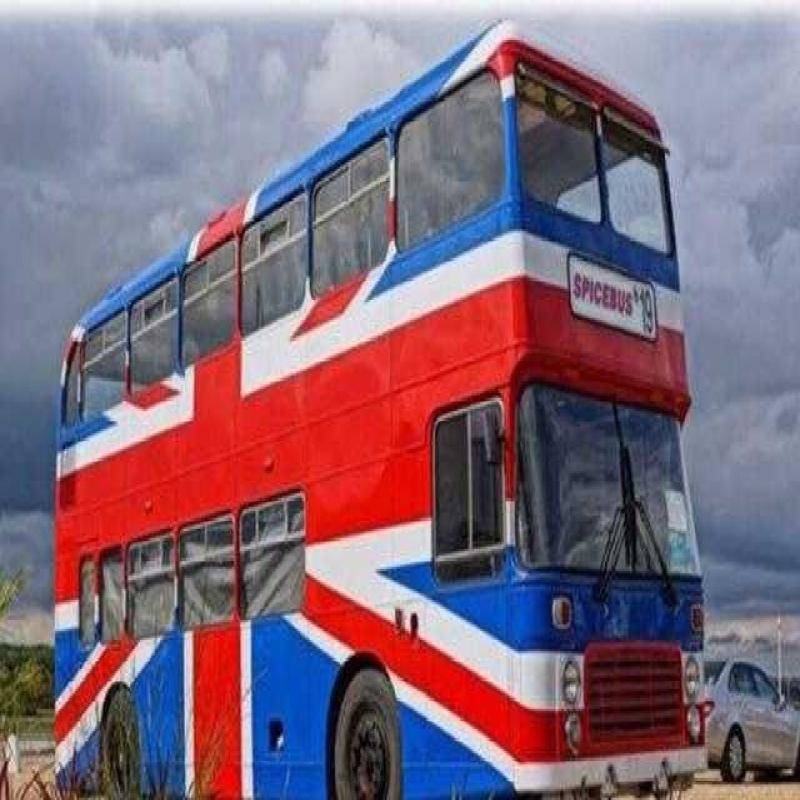bus: (49, 15, 693, 800)
